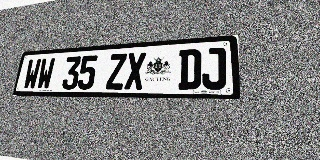3: (61, 56, 81, 90)
5: (77, 55, 98, 90)
D: (178, 49, 201, 89)
J: (202, 47, 226, 89)
W: (36, 58, 55, 90), (22, 59, 41, 90)
X: (124, 52, 146, 89)
Z: (106, 53, 127, 89)
